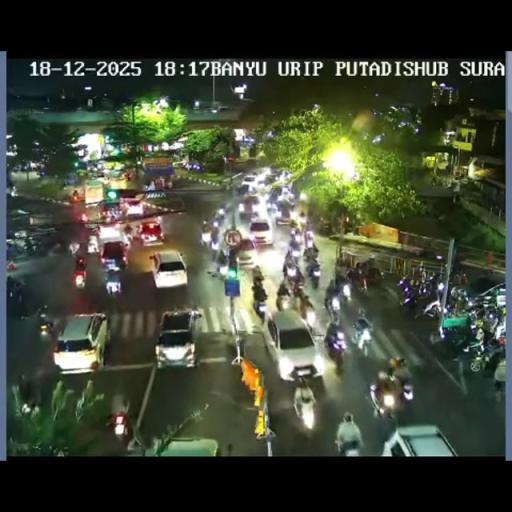Car: (265, 310, 320, 380), (53, 311, 109, 372), (154, 307, 204, 368), (383, 424, 460, 456), (150, 250, 187, 288), (100, 240, 129, 271), (234, 235, 258, 267), (248, 217, 273, 246), (138, 220, 164, 246), (239, 194, 261, 220), (124, 198, 146, 218), (240, 174, 260, 193), (265, 170, 285, 186), (86, 234, 99, 254)
Motorcycle: (246, 232, 323, 324), (368, 366, 414, 418), (428, 318, 471, 360), (465, 330, 504, 372), (463, 297, 505, 332), (292, 384, 318, 429), (398, 281, 429, 315), (16, 372, 39, 414), (106, 408, 131, 446), (352, 318, 374, 356), (323, 283, 344, 320), (6, 276, 26, 314), (443, 290, 470, 318), (326, 338, 344, 372), (346, 263, 366, 293), (283, 262, 304, 290), (337, 434, 362, 456), (362, 265, 385, 288), (36, 304, 53, 335), (426, 272, 444, 299), (104, 268, 122, 294), (299, 298, 316, 324), (46, 239, 68, 258), (302, 244, 320, 266), (306, 262, 321, 288), (252, 296, 267, 321), (250, 264, 265, 286), (411, 262, 425, 285), (276, 289, 290, 311), (288, 234, 302, 255), (215, 253, 227, 276), (451, 270, 468, 286), (319, 218, 333, 236), (388, 356, 406, 370), (290, 215, 302, 235), (266, 200, 278, 218), (74, 270, 86, 288), (200, 227, 212, 244), (304, 230, 314, 248), (341, 282, 351, 300), (124, 224, 134, 241), (25, 238, 35, 255), (69, 241, 80, 256), (209, 236, 219, 252), (286, 194, 297, 208), (69, 191, 81, 203), (75, 255, 86, 268), (216, 206, 226, 218), (298, 190, 308, 202), (103, 211, 112, 223), (212, 217, 220, 228)
